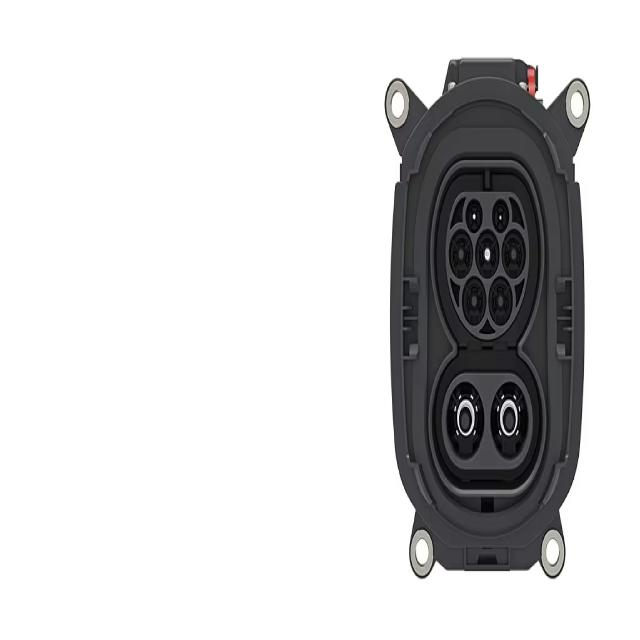inlet: (445, 192, 530, 341)
inlet-above-left: (465, 198, 483, 233)
inlet-above-right: (492, 198, 509, 233)
inlet-below-left: (462, 277, 486, 325)
inlet-below-right: (489, 276, 513, 326)
inlet-circle: (475, 229, 499, 280)
inlet-circle-left: (449, 229, 473, 279)
inlet-circle-right: (501, 229, 526, 280)
inlet-minus: (490, 381, 529, 460)
inlet-plus: (446, 382, 484, 461)
